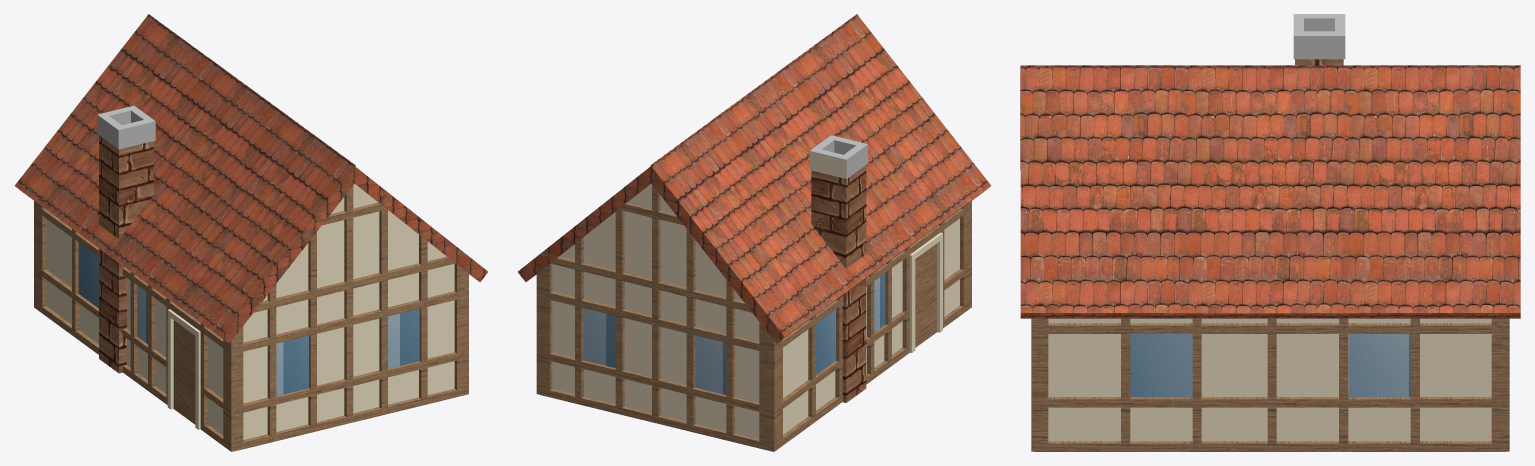
File: HouseWithChimney.fbx
3 renders of one model, left to right at view 1: azimuth 30°, elevation 25°; view 2: azimuth 150°, elevation 25°; view 3: azimuth 270°, elevation 25°, orthographic. The views are drawn at different scales.
Visible parts, largest first — view 1: mergedBlocks_bricks(Clone)_0.495, mergedBlocks_bricks(Clone)_0.483, mergedBlocks_bricks(Clone)_0.373, mergedBlocks_custom9(Clone)_0.634, mergedBlocks_custom9(Clone)_0.640, mergedBlocks_custom9(Clone)_0.663, mergedBlocks_custom11(Clone)_0.043, mergedBlocks_custom9(Clone)_0.669, mergedBlocks_custom11(Clone)_0.045, mergedBlocks_custom9(Clone)_0.645, mergedBlocks_bricks(Clone)_0.490, mergedBlocks_bricks(Clone)_0.487 (+31 smaller); view 2: mergedBlocks_bricks(Clone)_0.495, mergedBlocks_bricks(Clone)_0.483, mergedBlocks_bricks(Clone)_0.373, mergedBlocks_custom9(Clone)_0.643, mergedBlocks_custom9(Clone)_0.649, mergedBlocks_custom9(Clone)_0.657, mergedBlocks_custom11(Clone)_0.043, mergedBlocks_custom9(Clone)_0.659, mergedBlocks_custom11(Clone)_0.044, mergedBlocks_custom9(Clone)_0.645, mergedBlocks_bricks(Clone)_0.481, mergedBlocks_bricks(Clone)_0.472 (+32 smaller); view 3: mergedBlocks_bricks(Clone)_0.477, mergedBlocks_bricks(Clone)_0.489, mergedBlocks_bricks(Clone)_0.364, mergedBlocks_custom9(Clone)_0.626, mergedBlocks_custom9(Clone)_0.632, mergedBlocks_custom9(Clone)_0.650, mergedBlocks_custom1(Clone)_0.646, mergedBlocks_custom1(Clone)_0.640, mergedBlocks_wood(Clone)_0.3205, mergedBlocks_wood(Clone)_0.3217, mergedBlocks_wood(Clone)_0.3211, mergedBlocks_wood(Clone)_0.2515 (+15 smaller).
Part boxes in pixels (x1,y1,x2,y2): mergedBlocks_bricks(Clone)_0.495: (155, 105, 355, 336); mergedBlocks_bricks(Clone)_0.483: (14, 14, 229, 228); mergedBlocks_bricks(Clone)_0.373: (73, 62, 273, 288); mergedBlocks_custom9(Clone)_0.634: (353, 273, 454, 413); mergedBlocks_custom9(Clone)_0.640: (243, 300, 344, 439); mergedBlocks_custom9(Clone)_0.663: (353, 183, 454, 297); mergedBlocks_custom11(Clone)_0.043: (99, 135, 118, 373); mergedBlocks_custom9(Clone)_0.669: (244, 197, 344, 324); mergedBlocks_custom11(Clone)_0.045: (119, 141, 153, 373); mergedBlocks_custom9(Clone)_0.645: (46, 219, 98, 343); mergedBlocks_bricks(Clone)_0.490: (221, 165, 355, 343); mergedBlocks_bricks(Clone)_0.487: (354, 166, 487, 281); mergedBlocks_bricks(Clone)_0.495: (775, 14, 991, 233); mergedBlocks_bricks(Clone)_0.483: (650, 106, 843, 336); mergedBlocks_bricks(Clone)_0.373: (711, 74, 925, 293); mergedBlocks_custom9(Clone)_0.643: (660, 300, 759, 439); mergedBlocks_custom9(Clone)_0.649: (552, 274, 651, 412); mergedBlocks_custom9(Clone)_0.657: (552, 183, 651, 297); mergedBlocks_custom11(Clone)_0.043: (846, 165, 866, 402); mergedBlocks_custom9(Clone)_0.659: (660, 196, 759, 323); mergedBlocks_custom11(Clone)_0.044: (811, 170, 846, 402); mergedBlocks_custom9(Clone)_0.645: (783, 329, 835, 434); mergedBlocks_bricks(Clone)_0.481: (650, 166, 784, 343); mergedBlocks_bricks(Clone)_0.472: (518, 166, 651, 281); mergedBlocks_bricks(Clone)_0.477: (1323, 65, 1520, 312); mergedBlocks_bricks(Clone)_0.489: (1020, 65, 1217, 312); mergedBlocks_bricks(Clone)_0.364: (1163, 65, 1361, 313); mergedBlocks_custom9(Clone)_0.626: (1201, 318, 1338, 441); mergedBlocks_custom9(Clone)_0.632: (1048, 318, 1192, 441); mergedBlocks_custom9(Clone)_0.650: (1348, 318, 1491, 441); mergedBlocks_custom1(Clone)_0.646: (1130, 334, 1192, 397); mergedBlocks_custom1(Clone)_0.640: (1348, 334, 1410, 397); mergedBlocks_wood(Clone)_0.3205: (1034, 443, 1506, 451); mergedBlocks_wood(Clone)_0.3217: (1035, 325, 1505, 333); mergedBlocks_wood(Clone)_0.3211: (1034, 399, 1506, 407); mergedBlocks_wood(Clone)_0.2515: (1491, 318, 1509, 451).
Bounding box in the file's own units: 2300 × 2145 × 3074.
